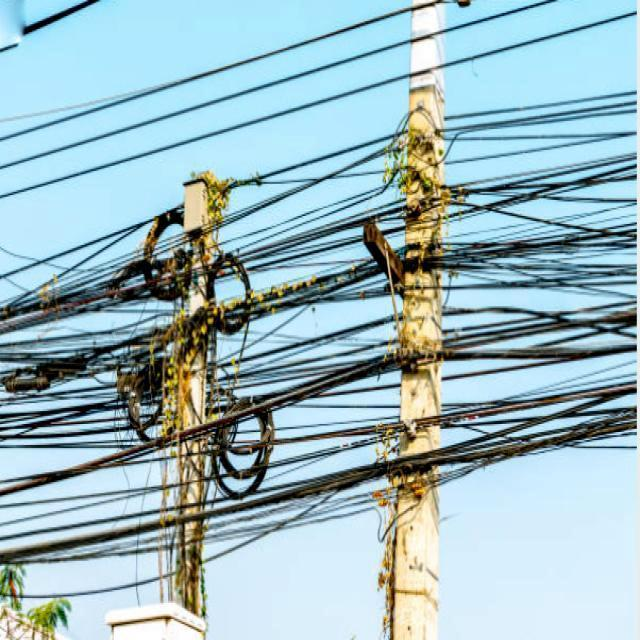critical vegetation: (382, 100, 461, 372), (180, 170, 235, 364)
